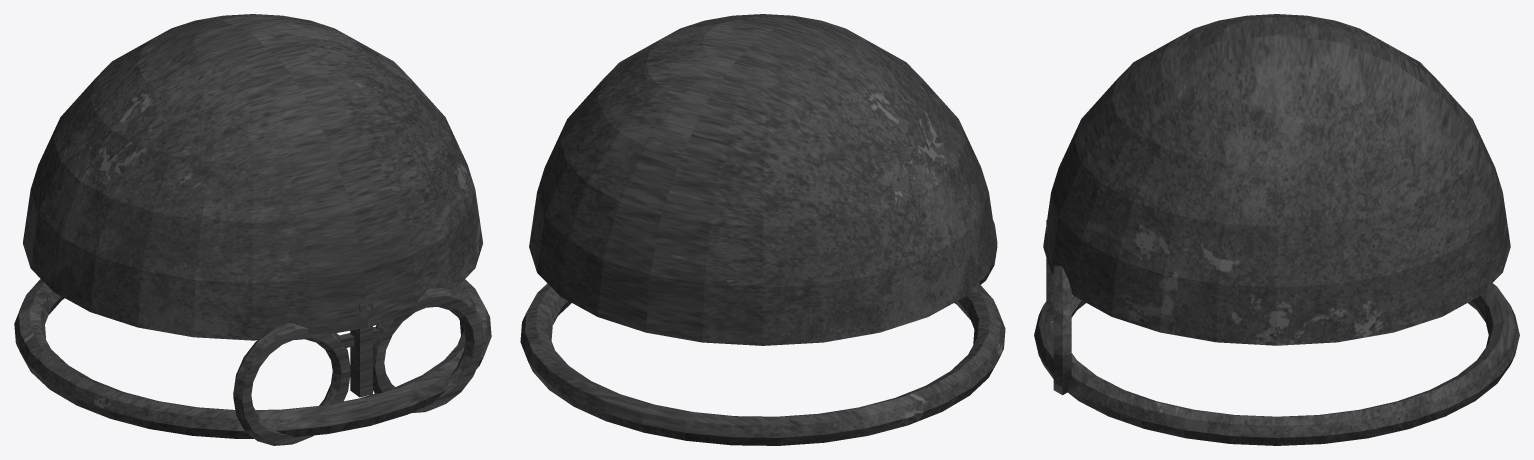
Rendered from viking_helm.fbx.
The picture shows the model from 3 angles, left to right: view 1: azimuth 30°, elevation 25°; view 2: azimuth 150°, elevation 25°; view 3: azimuth 270°, elevation 25°; orthographic projection.
Parts seen in each view (by area): view 1: viking_helm; view 2: viking_helm; view 3: viking_helm.
Part boxes in pixels (box(x1,y1,x2,y2)): viking_helm: box(14, 14, 491, 445); viking_helm: box(520, 14, 1005, 445); viking_helm: box(1034, 14, 1519, 445).
Size of the model in its own units: 0.374 by 0.273 by 0.374.
Materials: 1 (1 with a texture image).
